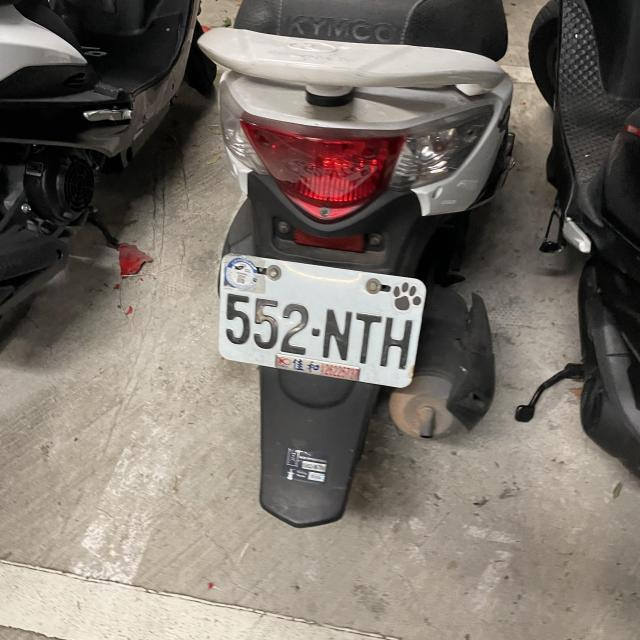W: (210, 253, 430, 392)
